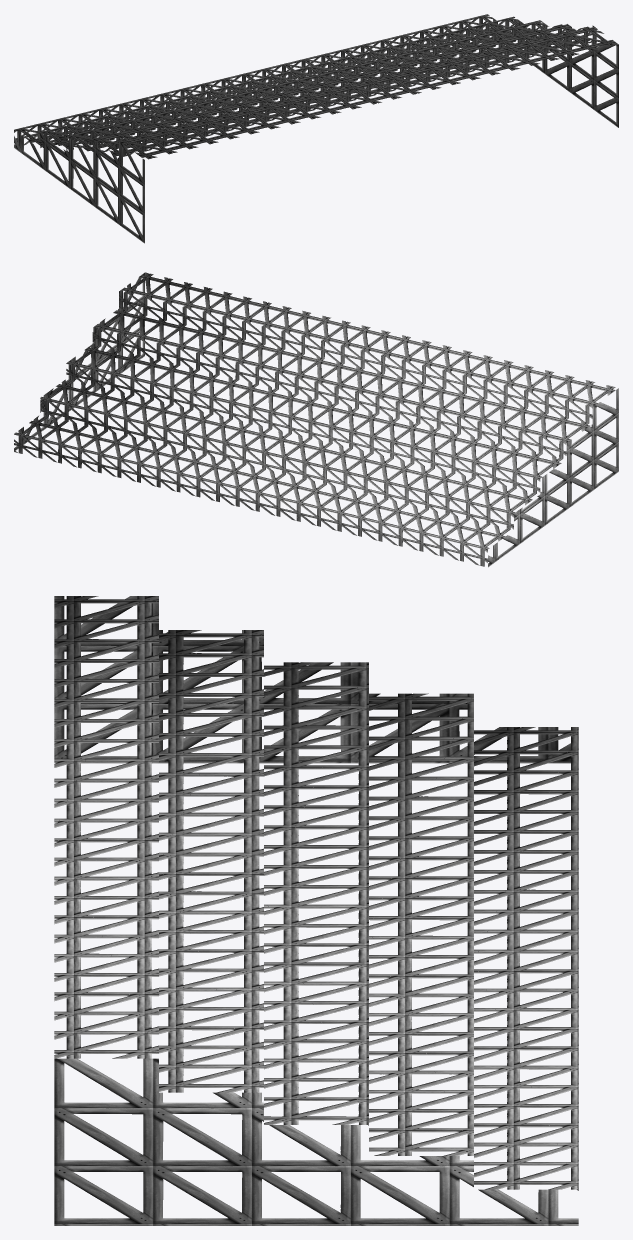
Rendered from ARC0610025.fbx.
The picture shows the model from 3 angles, top to bottom: view 1: azimuth 30°, elevation 25°; view 2: azimuth 150°, elevation 25°; view 3: azimuth 270°, elevation 25°; orthographic projection. The views are drawn at different scales.
Visible parts, largest first — view 1: smARC0610025; view 2: smARC0610025; view 3: smARC0610025.
Boxes of the visible parts, x1=… form: smARC0610025: x1=14, y1=14, x2=618, y2=243; smARC0610025: x1=14, y1=272, x2=618, y2=567; smARC0610025: x1=54, y1=596, x2=578, y2=1225.
Bounding box in the file's own units: 1507 × 254 × 722.
Materials: 1 (1 with a texture image).
